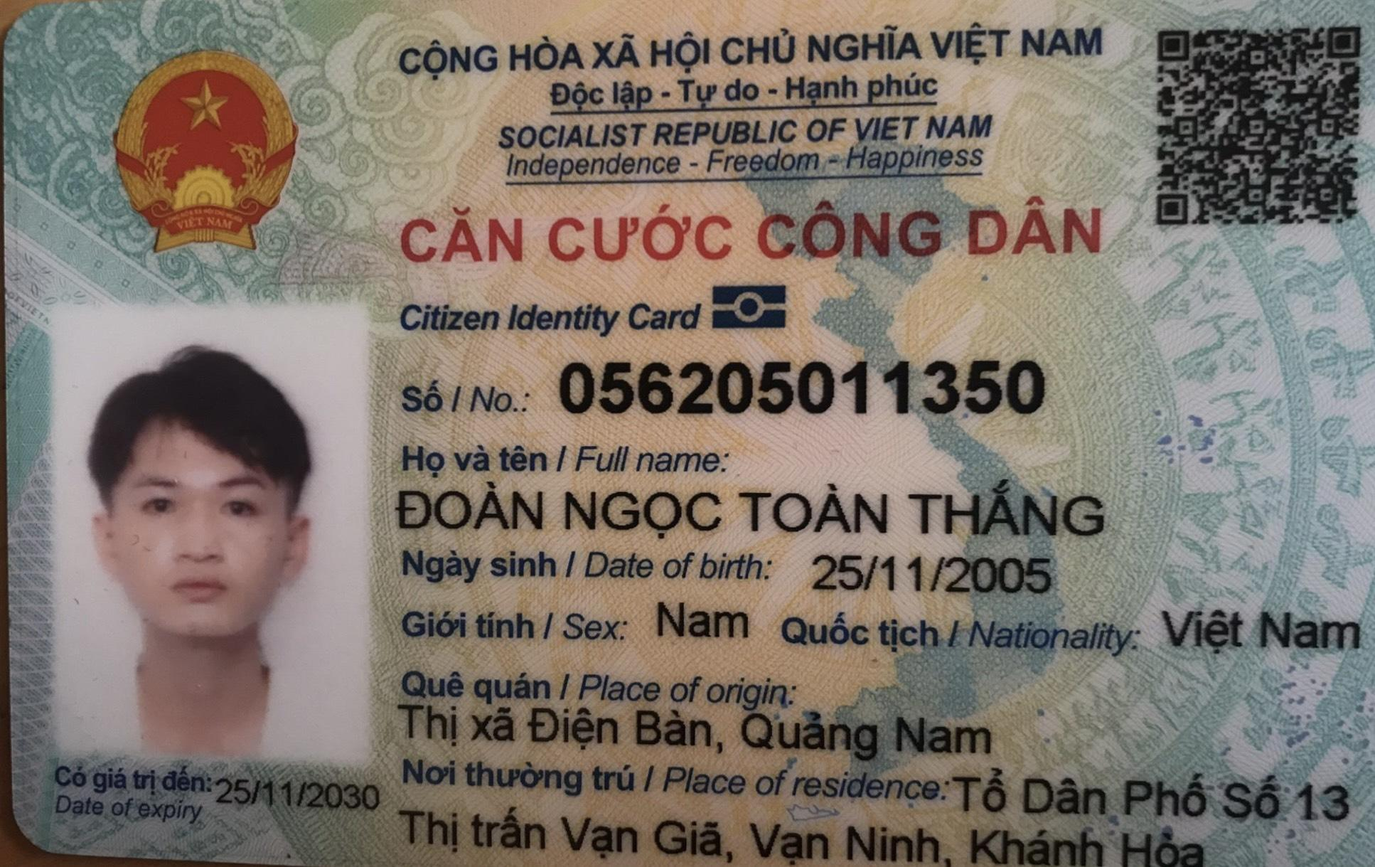ID: (542, 349, 1062, 427)
birth: (791, 544, 1063, 605)
name: (389, 473, 1120, 544)
place: (380, 690, 1015, 767)
residence: (398, 802, 1214, 867), (947, 765, 1365, 833)
